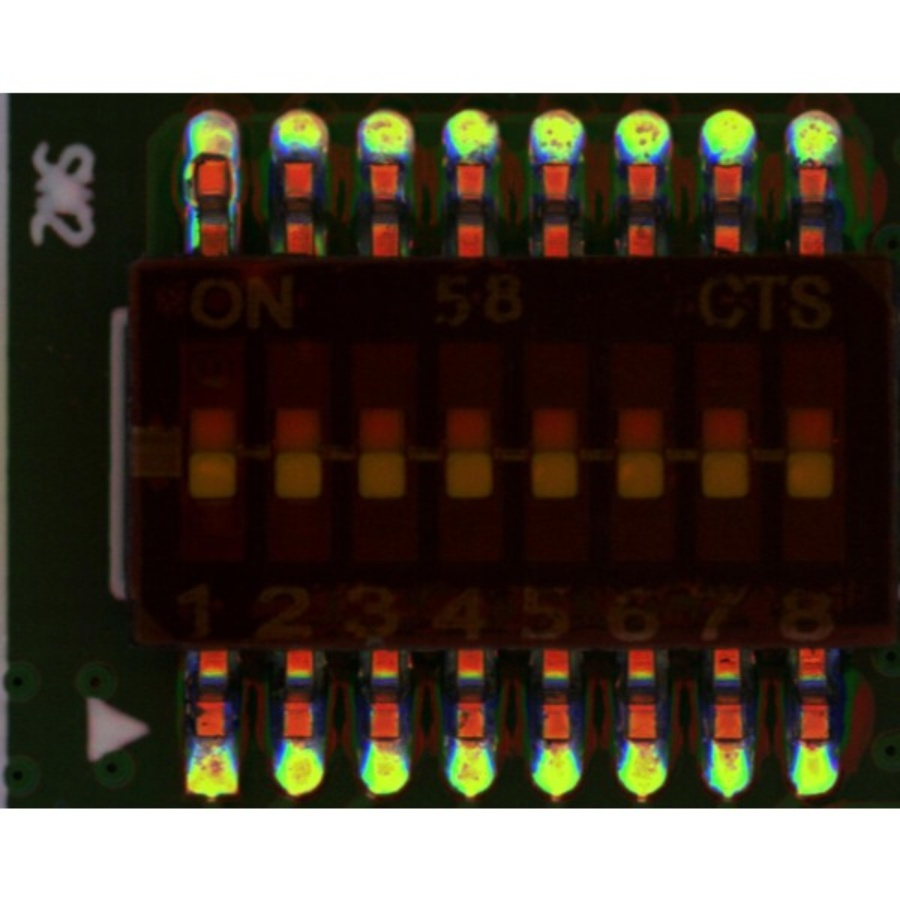Bad_podu: (183, 159, 197, 255), (228, 161, 241, 253), (370, 723, 400, 757), (713, 730, 741, 765), (457, 724, 484, 758), (798, 730, 830, 755), (543, 728, 570, 757), (627, 732, 653, 761)
